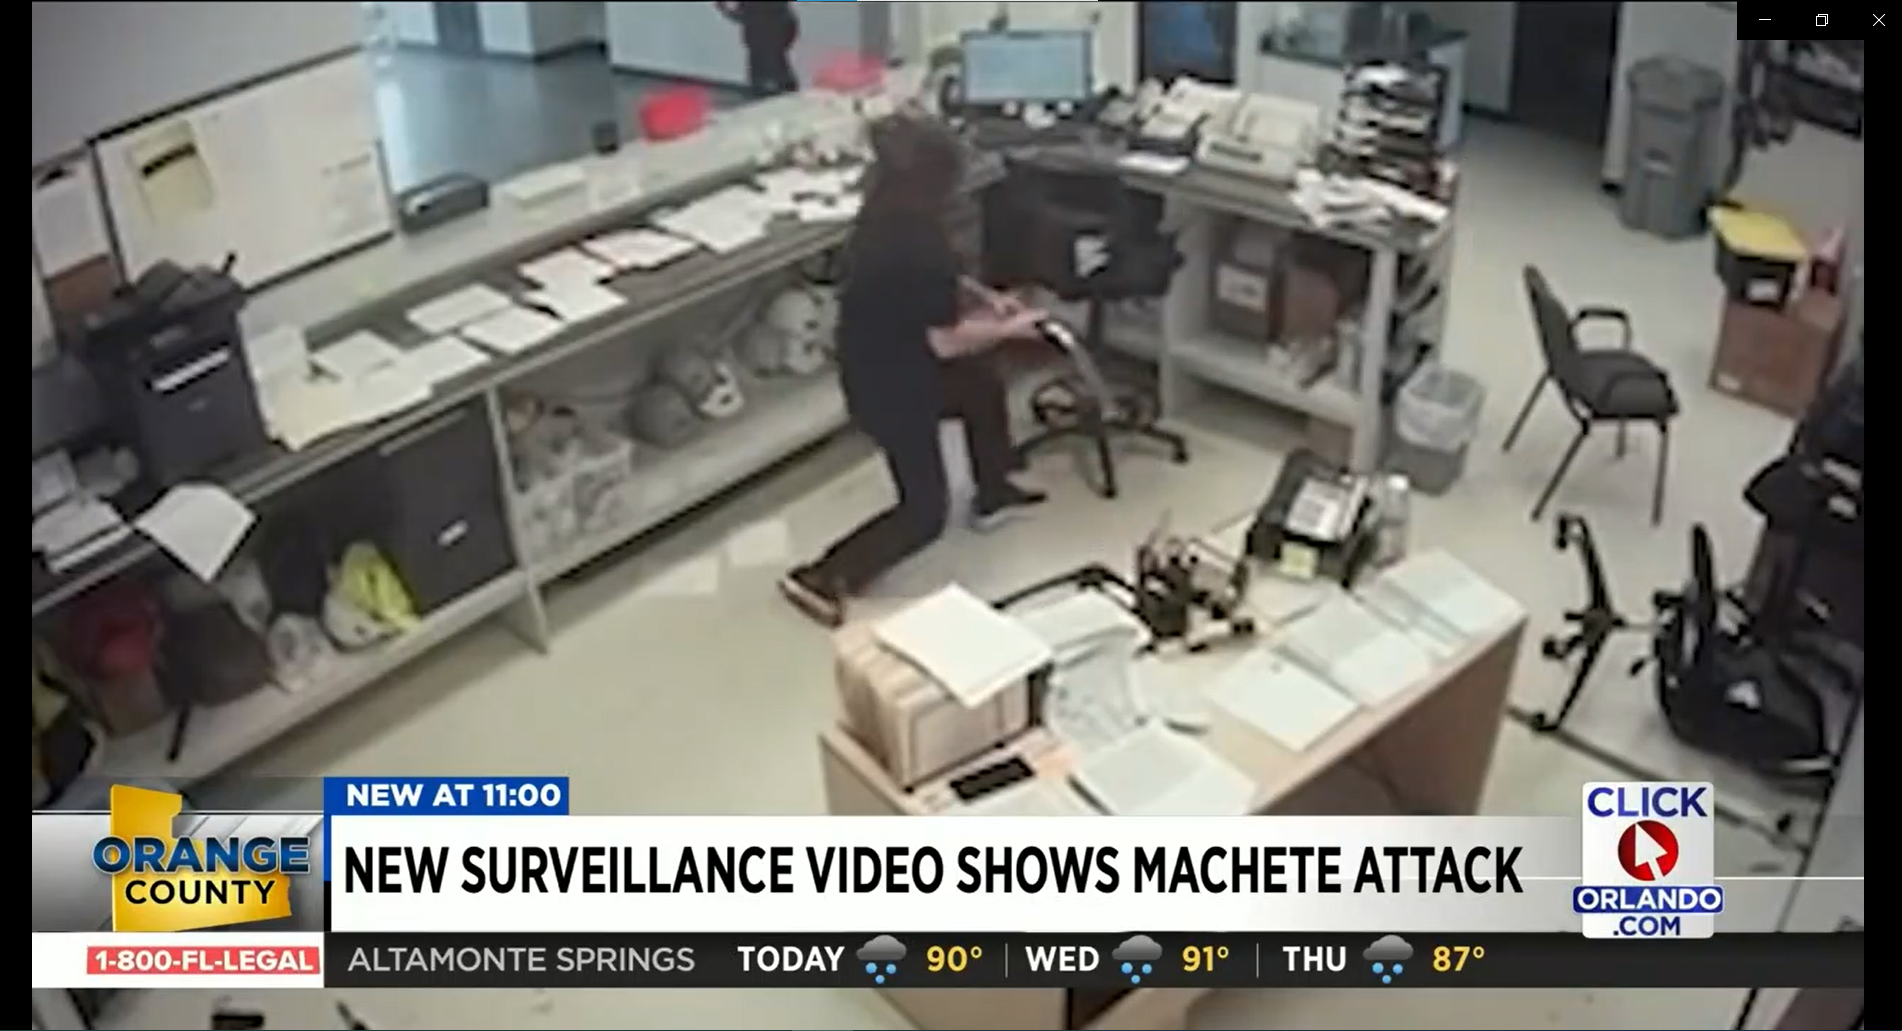knife: (1058, 330, 1135, 438)
knife in hand: (903, 286, 1183, 440)
person: (802, 125, 988, 568)
